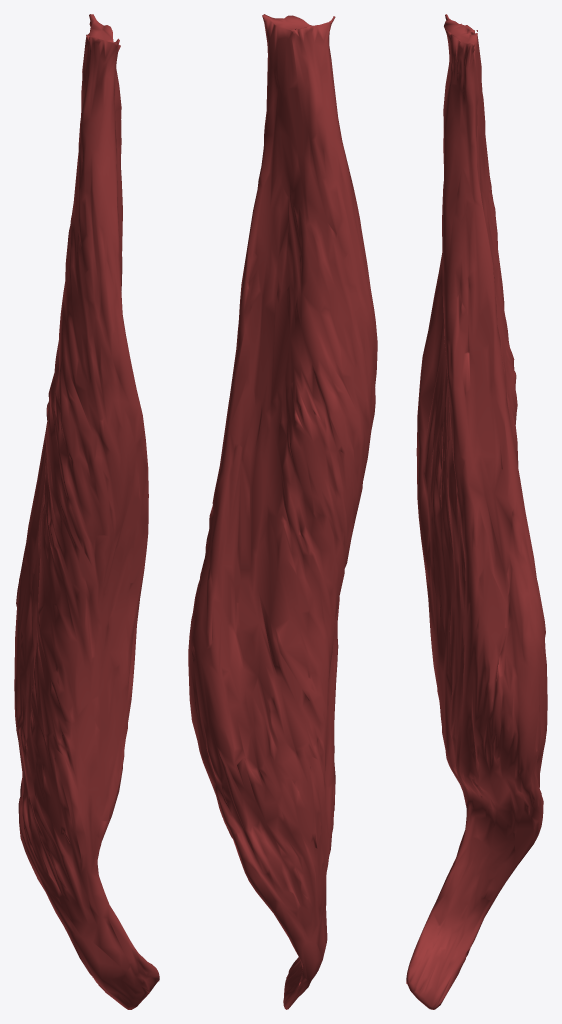
The model's file is semimembranosus-muscle-l.glb.
3 renders of one model, left to right at view 1: azimuth 90°, elevation 25°; view 2: azimuth 150°, elevation 25°; view 3: azimuth 270°, elevation 25°, orthographic. The views are drawn at different scales.
Visible parts, largest first — view 1: Semimembranosus muscle.l; view 2: Semimembranosus muscle.l; view 3: Semimembranosus muscle.l.
Boxes of the visible parts, box(x1,y1,x2,y2) form: Semimembranosus muscle.l: box(14, 14, 159, 1009); Semimembranosus muscle.l: box(188, 14, 377, 1009); Semimembranosus muscle.l: box(406, 14, 547, 1009).
Size of the model in its own units: 0.0638 by 0.4177 by 0.0551.
